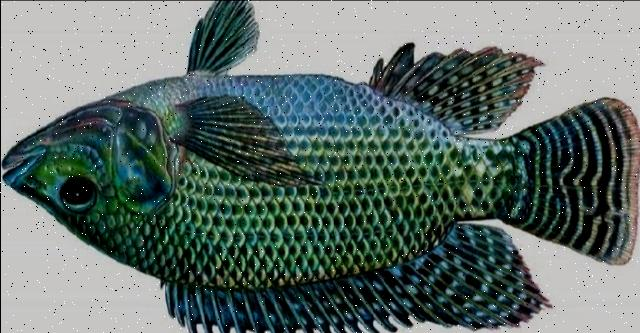Mulut: (1, 135, 42, 203)
Sirip Anal: (354, 36, 548, 145)
Sirip Dada: (161, 90, 325, 212)
Sirip Ekor: (522, 83, 640, 282)
Sirip Perut: (181, 0, 267, 80)
Sirip Punggung: (156, 227, 558, 331)
